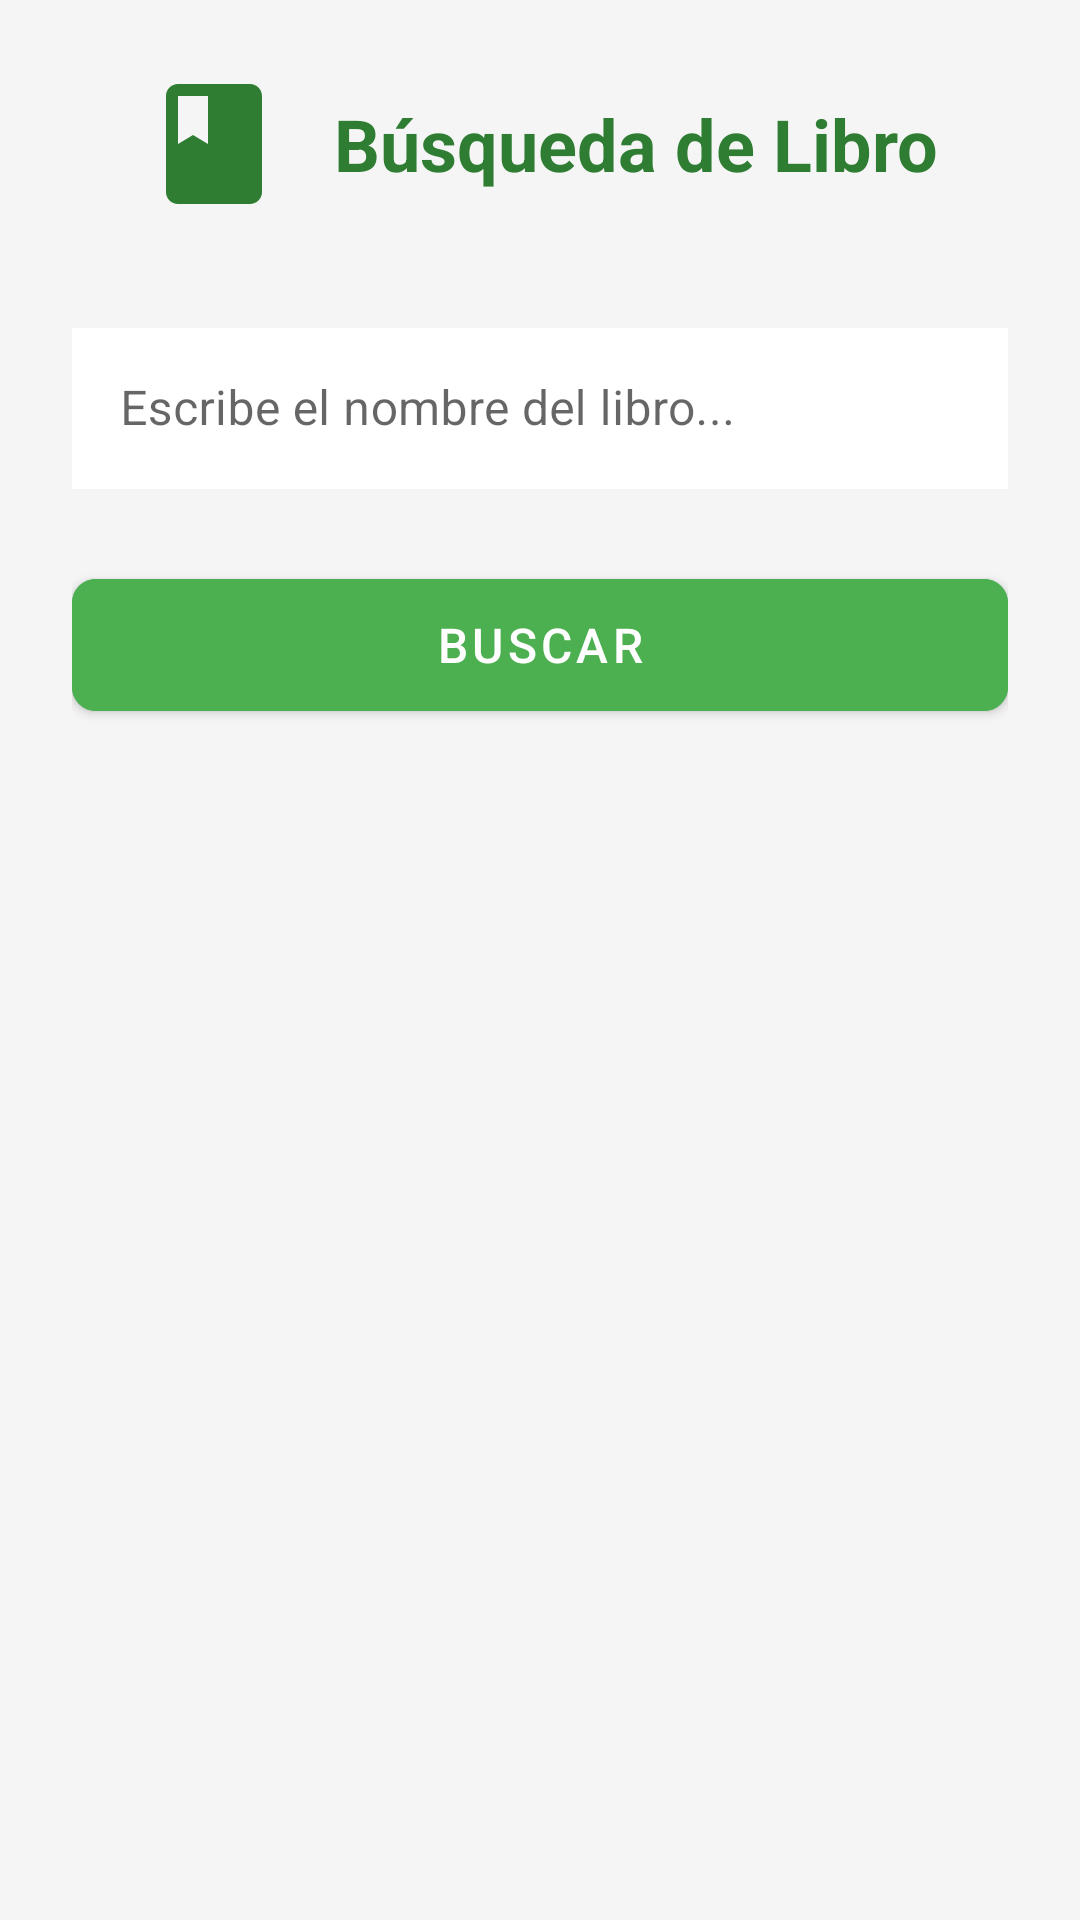

Where to tap for icons on this 1080 × 1920 app screen, as (x,y):
Icono de libro: (214,144)
